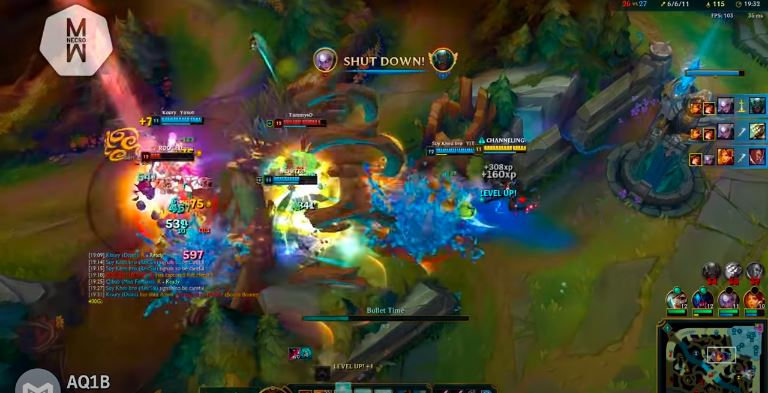bar: (261, 171, 321, 188), (138, 148, 197, 164), (149, 112, 207, 128), (424, 144, 481, 158), (272, 116, 330, 129), (472, 141, 529, 154)
